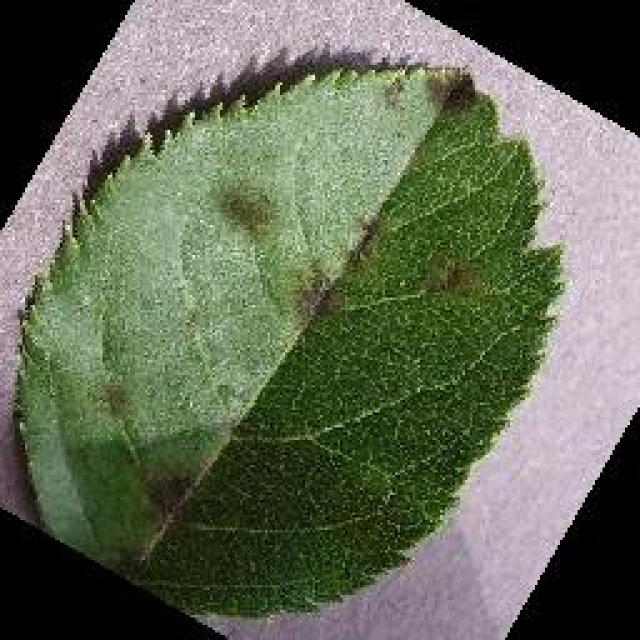apple scab disease: (10, 52, 565, 620)
